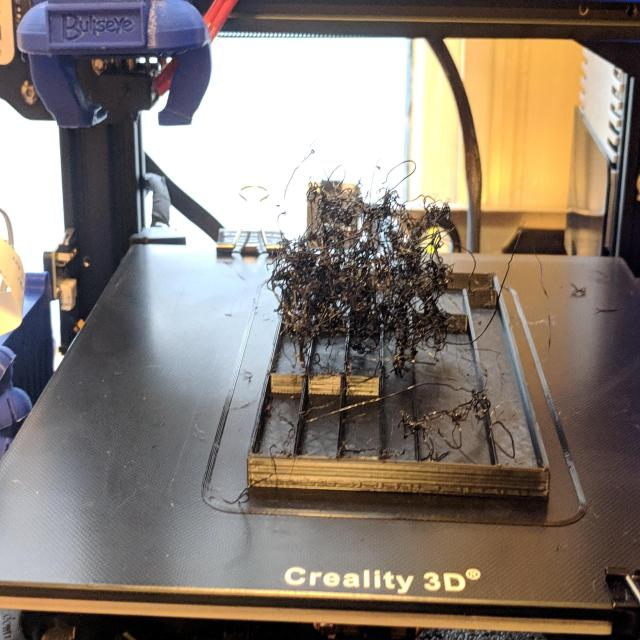Spaghetti: (285, 184, 457, 367)
